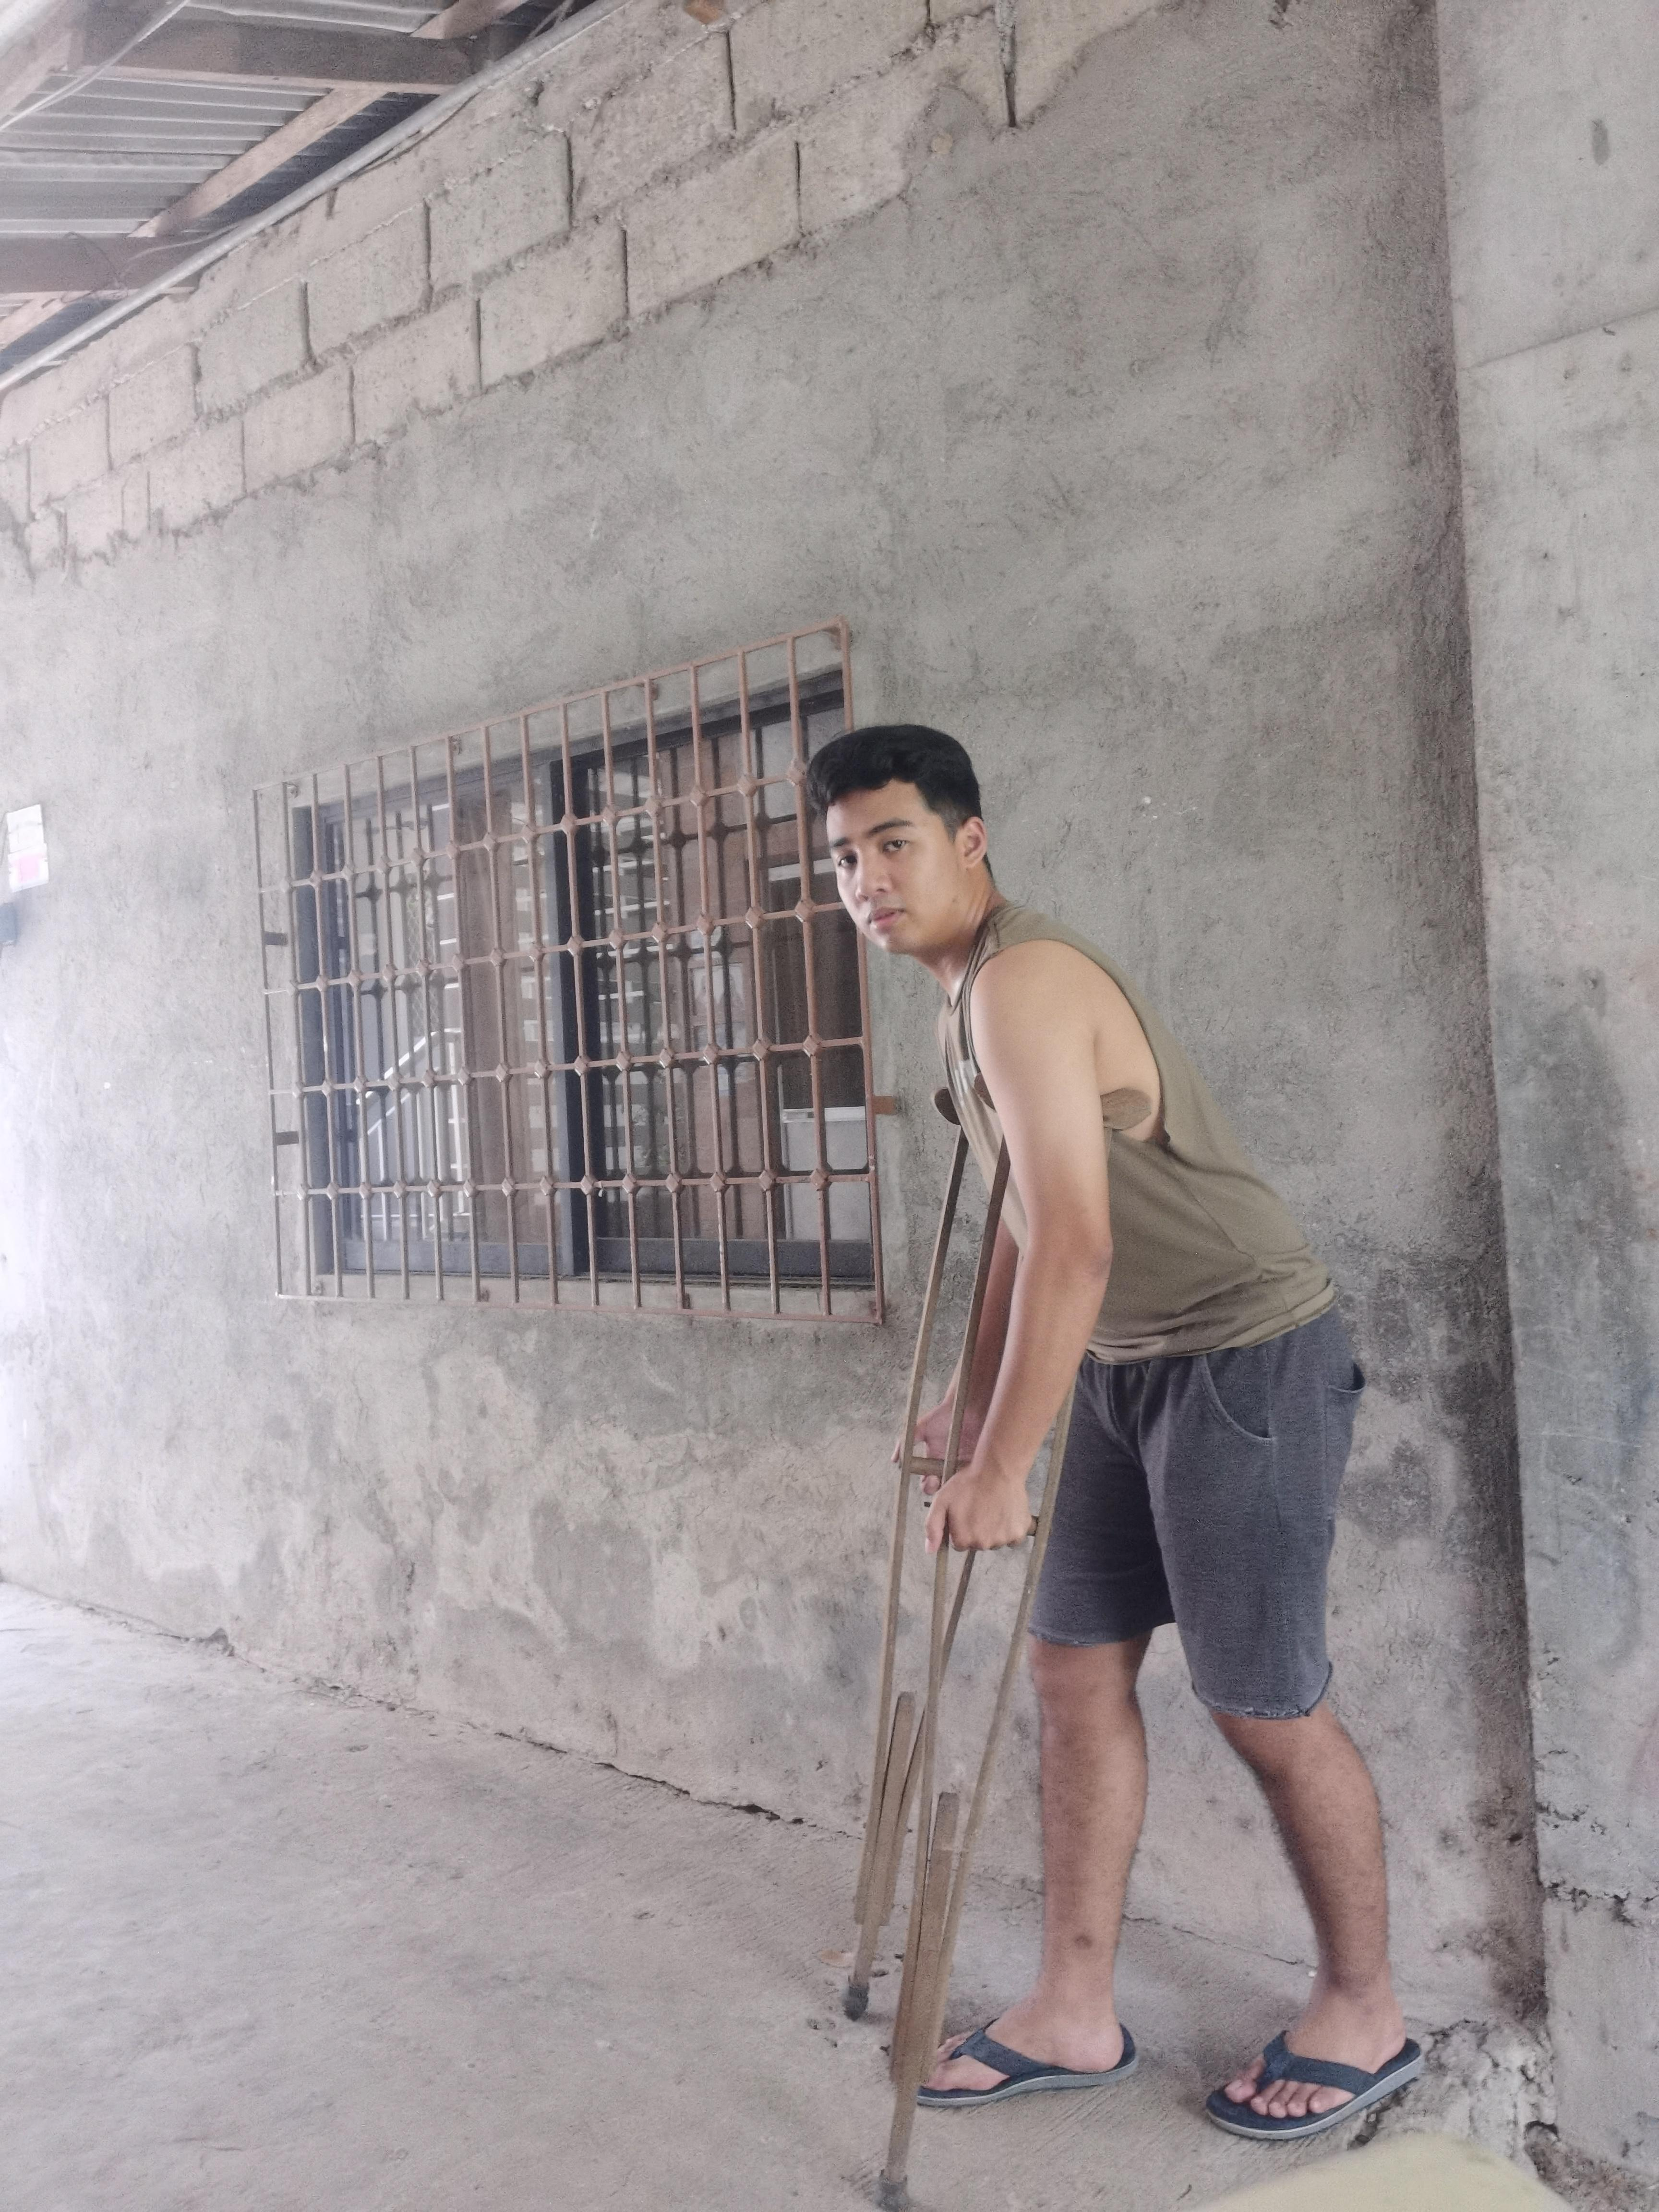crutches: (807, 725, 1431, 2205)
